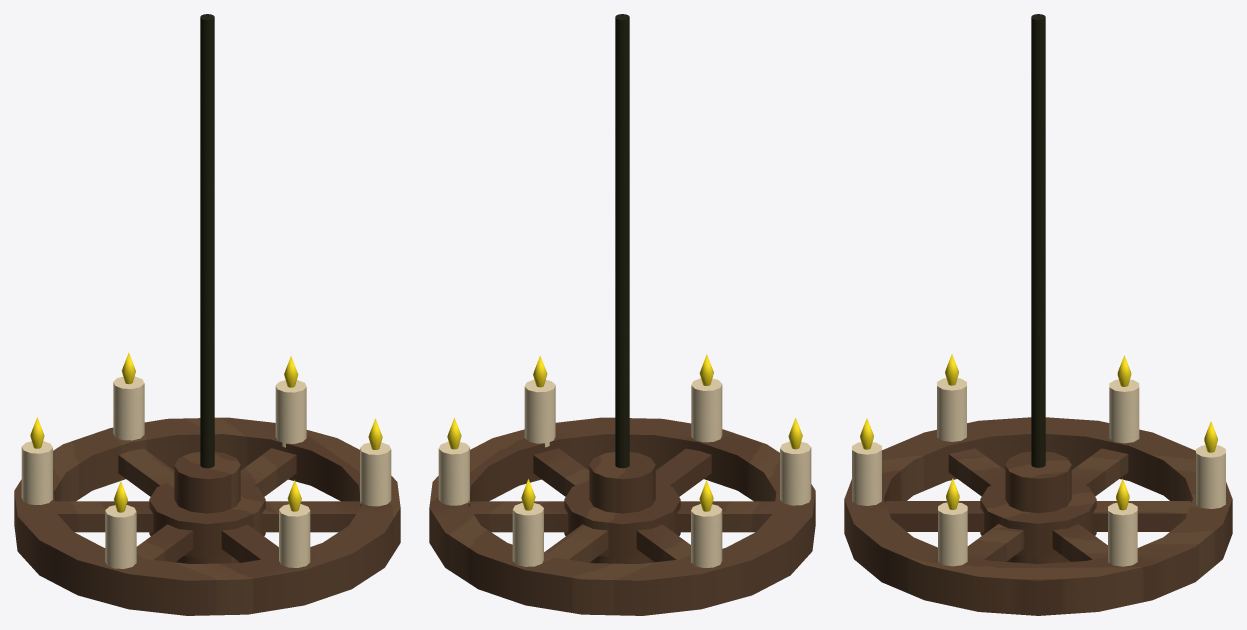
The model's file is MSH_Chandelier.fbx.
The picture shows the model from 3 angles, left to right: view 1: azimuth 30°, elevation 25°; view 2: azimuth 150°, elevation 25°; view 3: azimuth 270°, elevation 25°; orthographic projection.
Parts seen in each view (by area): view 1: MSH_Chandelier; view 2: MSH_Chandelier; view 3: MSH_Chandelier.
Boxes of the visible parts, x1,y1,x2,y2 form: MSH_Chandelier: (14,14,400,615); MSH_Chandelier: (429,14,815,615); MSH_Chandelier: (844,14,1232,615).
Bounding box in the file's own units: 160 × 251 × 160.
